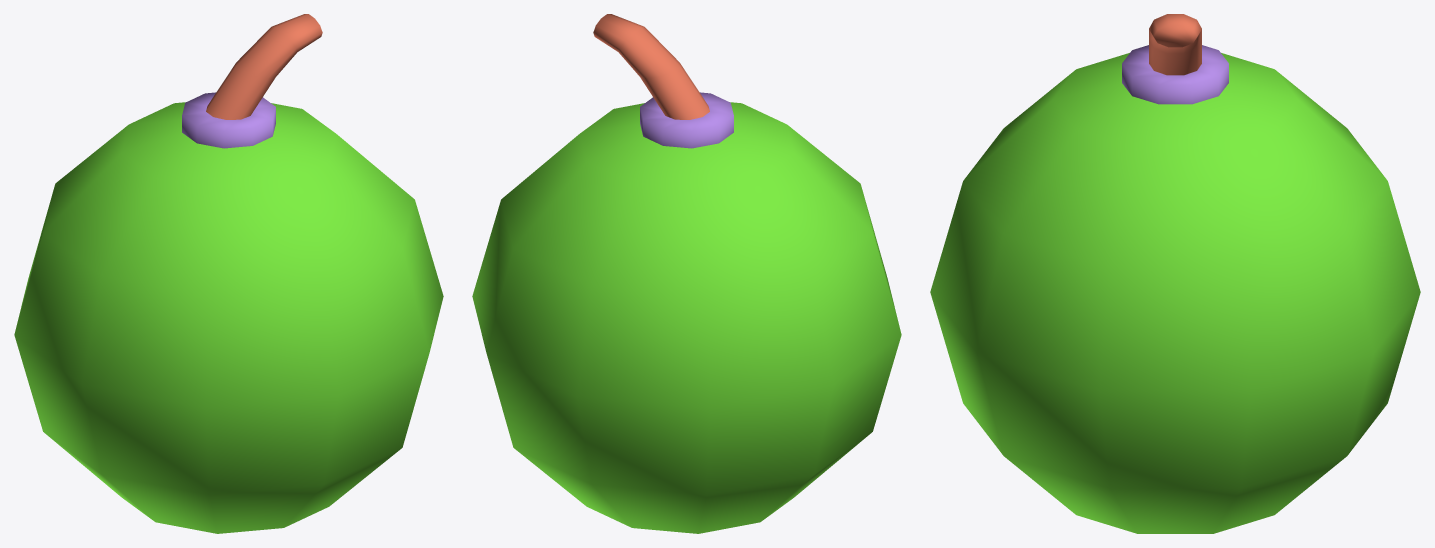
The model's file is bomb.fbx.
The picture shows the model from 3 angles, left to right: view 1: azimuth 30°, elevation 25°; view 2: azimuth 150°, elevation 25°; view 3: azimuth 270°, elevation 25°; orthographic projection. The views are drawn at different scales.
Parts seen in each view (by area): view 1: bomb; view 2: bomb; view 3: bomb.
Part boxes in pixels (bbox=[...]): bomb: bbox=[14, 14, 443, 533]; bomb: bbox=[472, 14, 901, 533]; bomb: bbox=[930, 14, 1420, 533].
Bounding box in the file's own units: 15.26 × 19.28 × 16.04.
